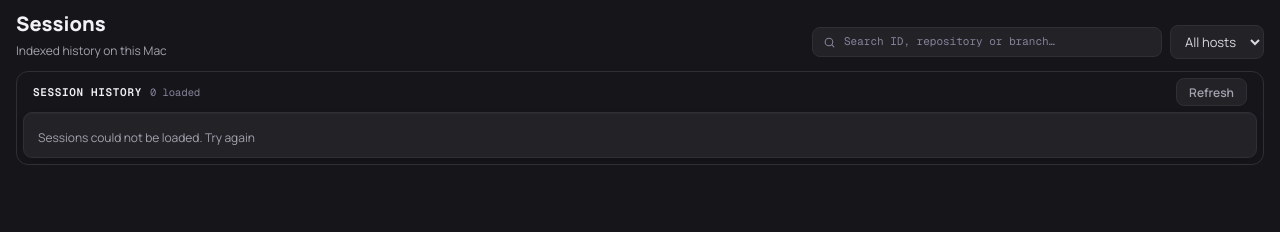
Test: recovers from a failed query using the retry control
This screenshot has width=1280, height=232.
Expected: the message "Sessions could not be loaded. Try again" is shown, [38, 129, 255, 147]
Click the button "Try again" at (230, 138), box [205, 129, 255, 147]
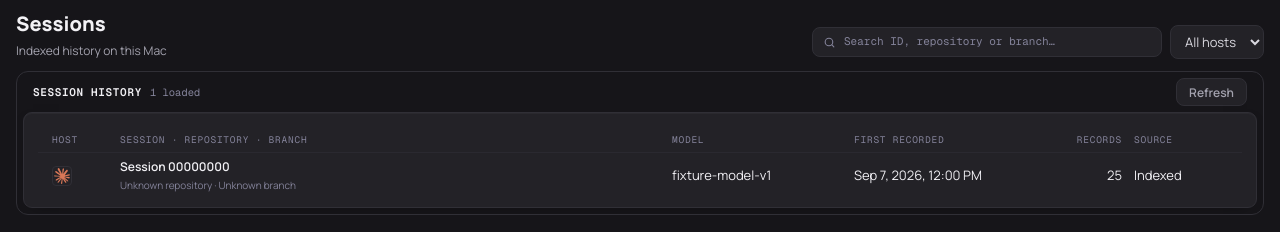
Now the text "Session 00000000" is shown, box [120, 158, 230, 175]
